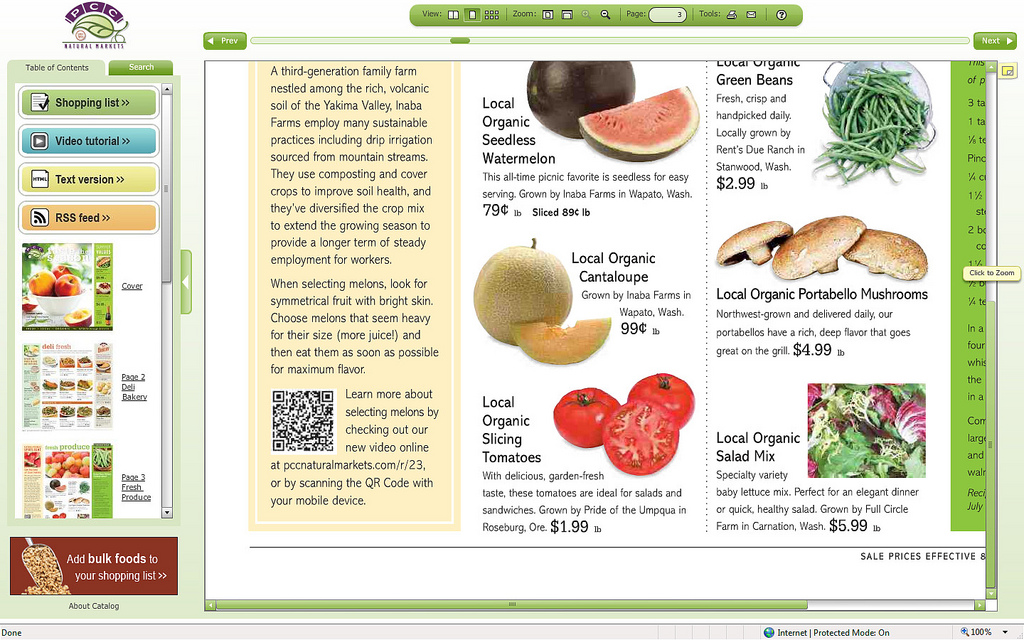QR-CODE: (273, 391, 332, 450)
